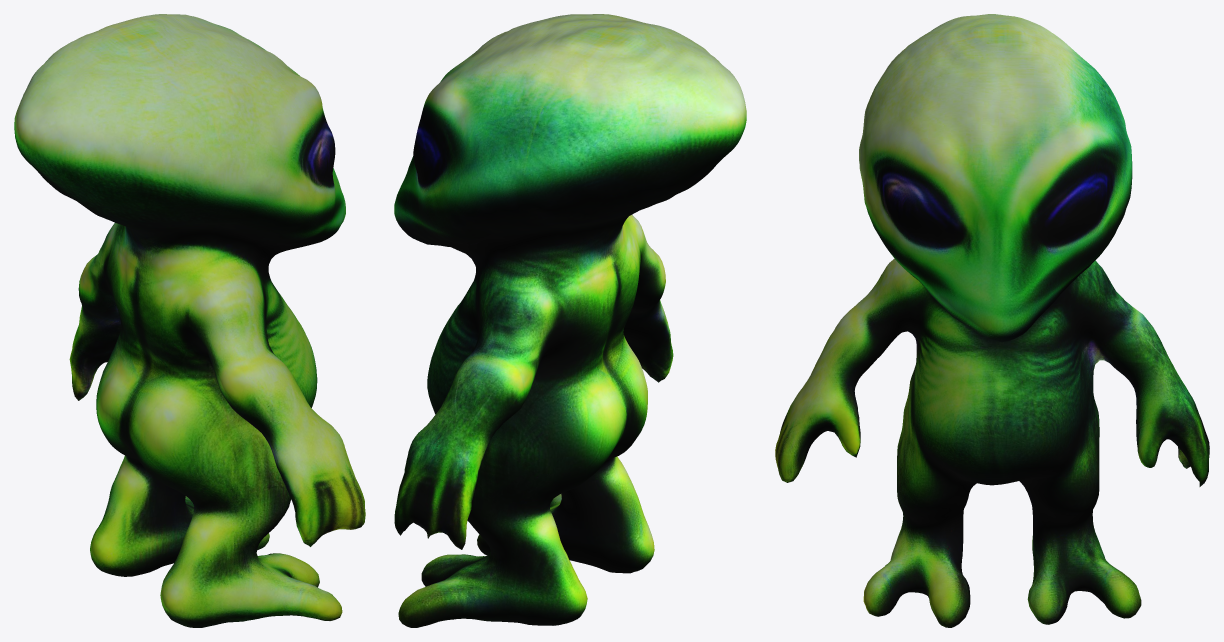
The model's file is alien1.glb.
3 views of the same model, side by side, from view 1: azimuth 30°, elevation 25°; view 2: azimuth 150°, elevation 25°; view 3: azimuth 270°, elevation 25° (orthographic). The views are drawn at different scales.
Visible parts, largest first — view 1: Mesh1; view 2: Mesh1; view 3: Mesh1.
Part boxes in pixels (<box>): Mesh1: <box>14,14,365,627</box>; Mesh1: <box>394,14,746,627</box>; Mesh1: <box>775,14,1209,627</box>.
Bounding box in the file's own units: 0.7241 × 1.2 × 0.8939.
1 material, 1 textured.
